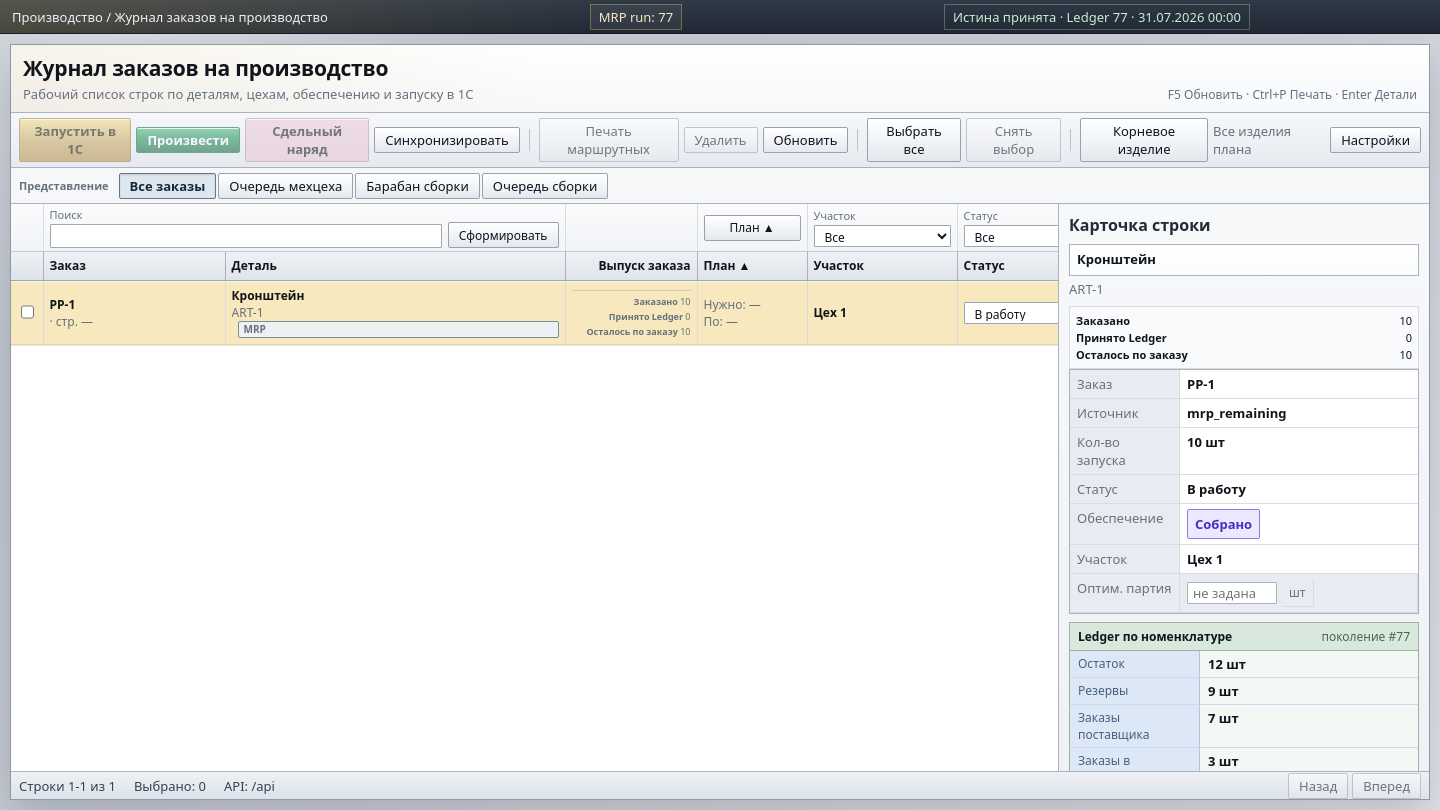
Test case: ProductionControlPage — characterization › prints an idempotent existing receipt without waiting for a revision move
This screenshot has width=1440, height=810.
Expected: the text "MRP run: 77" is shown, [590, 4, 682, 30]
Click the checkbox.
click(28, 312)  # box [21, 300, 34, 324]
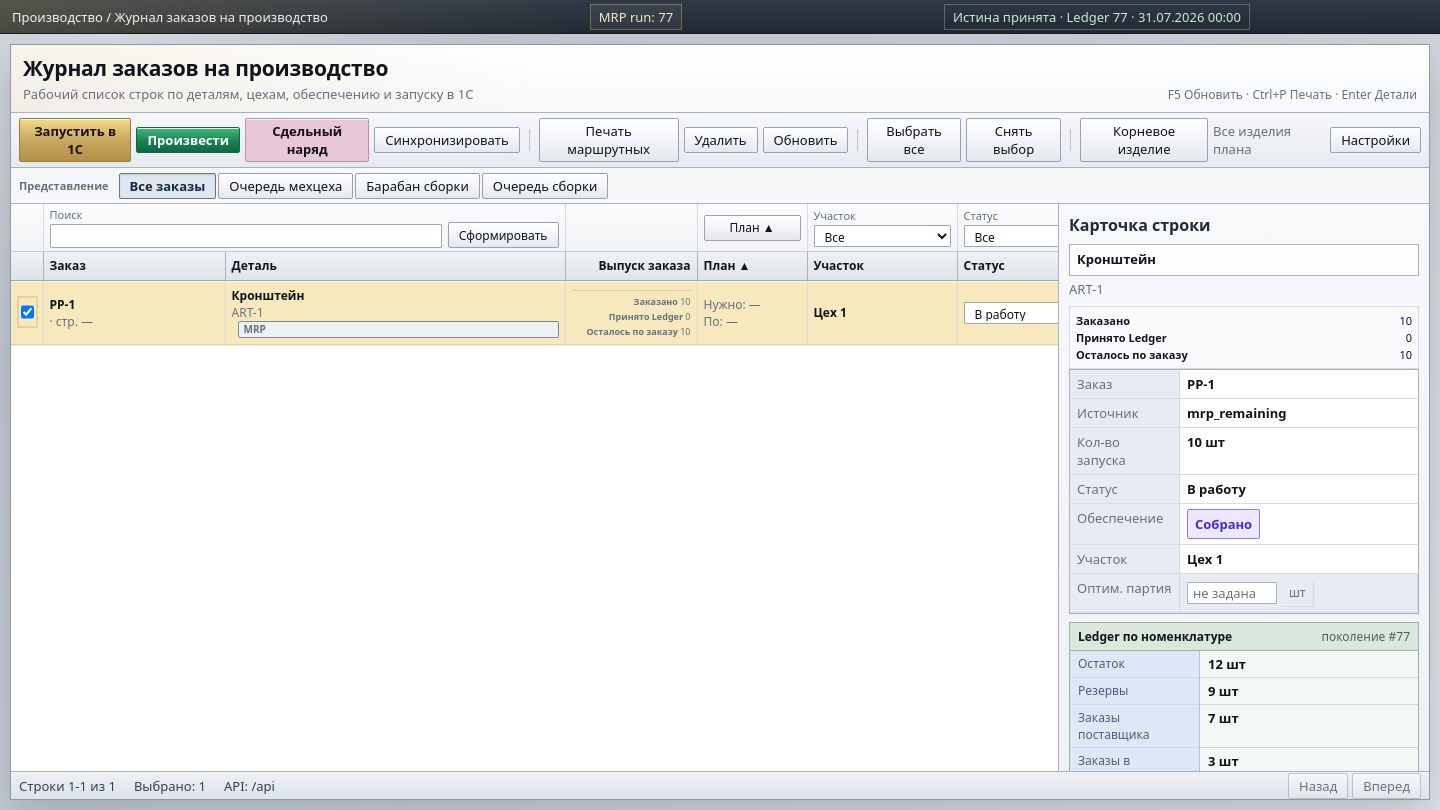
Click the button "Запустить в 1С".
click(75, 140)  # box [19, 118, 131, 162]
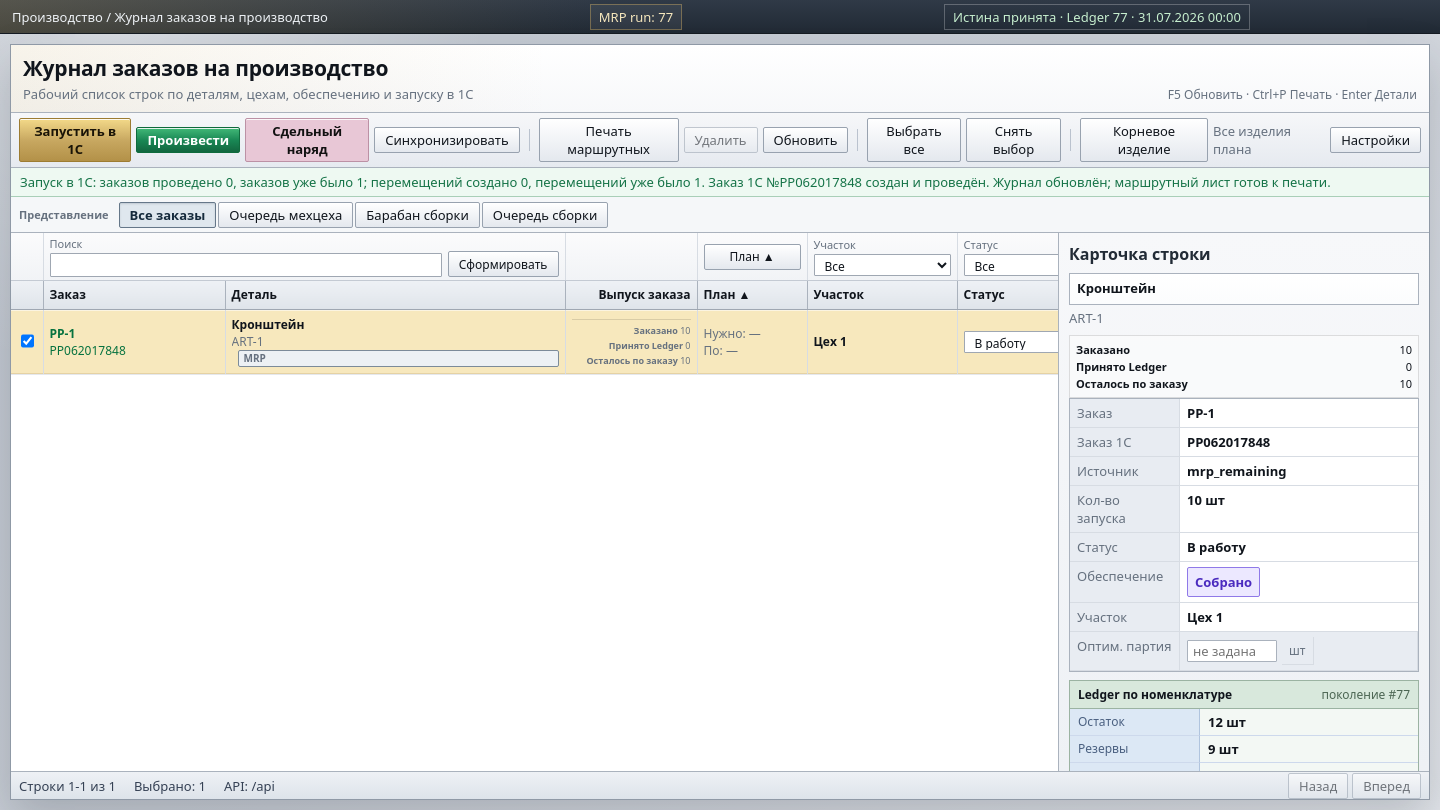
Expected: the text "Заказ 1С №PP062017848 создан и проведён" is shown, [20, 173, 1331, 191]
